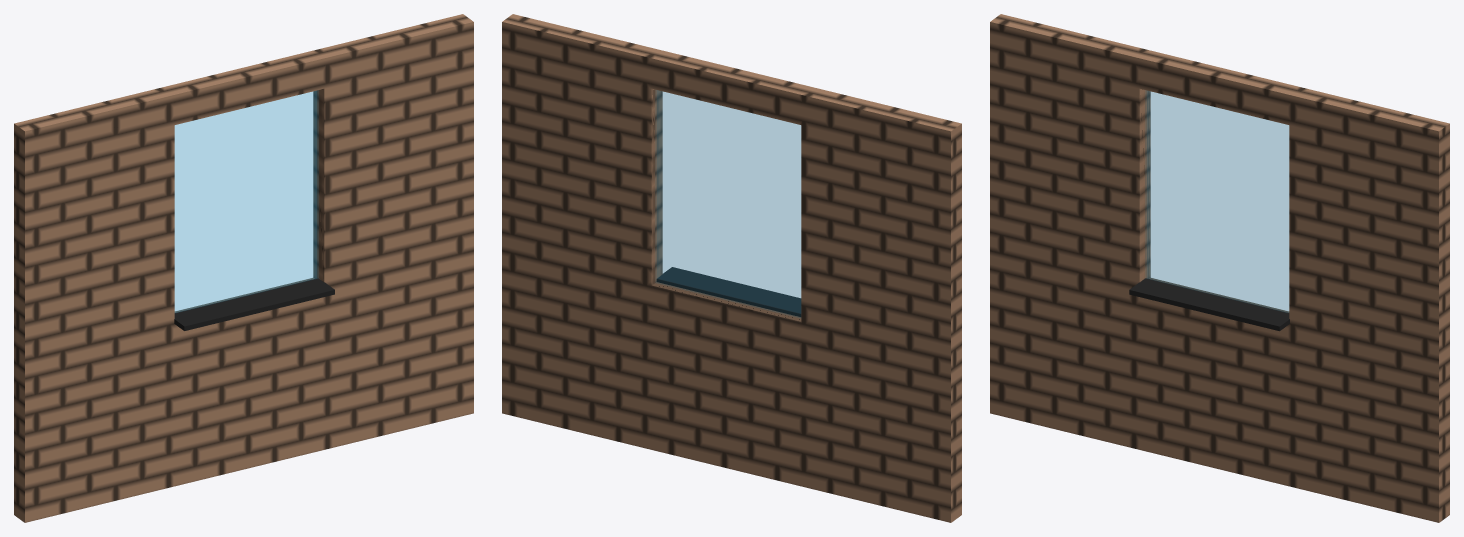
The model's file is SM_wall_brick_window_01.fbx.
3 views of the same model, side by side, from view 1: azimuth 30°, elevation 25°; view 2: azimuth 150°, elevation 25°; view 3: azimuth 330°, elevation 25° (orthographic).
Parts seen in each view (by area): view 1: wall_brick_window_01; view 2: wall_brick_window_01; view 3: wall_brick_window_01.
Part boxes in pixels (bbox=[...]): wall_brick_window_01: bbox=[14, 14, 473, 522]; wall_brick_window_01: bbox=[502, 14, 961, 522]; wall_brick_window_01: bbox=[990, 14, 1449, 522].
Bounding box in the file's own units: 300 × 250 × 24.32.
Materials: 3 (1 with a texture image).
